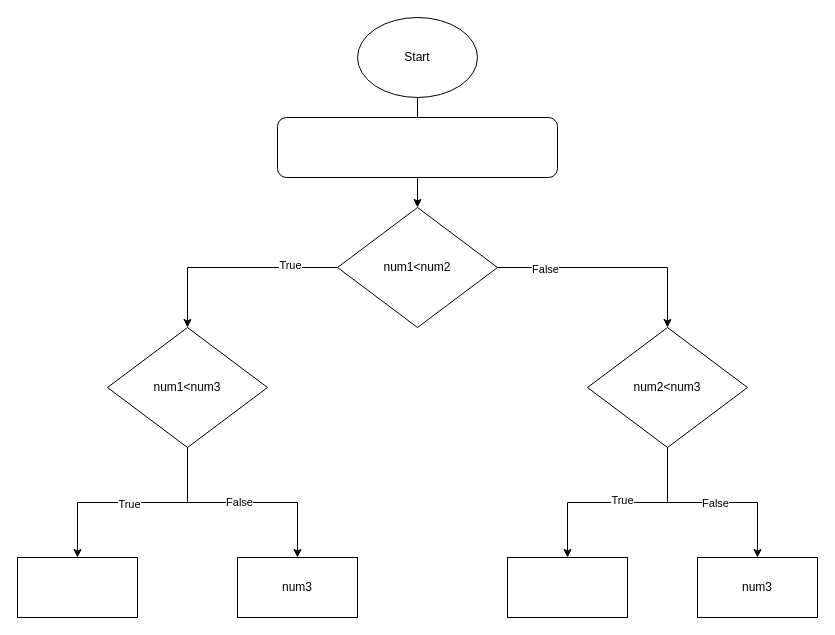
Image size: 835x635. Some labels were removed from this diagram. The centre of each missing label's shape, as x and y in pixels:
"Enter value for num1 Enter value for num2 Enter value for num3" goes at (x=417, y=147).
"num1" goes at (x=77, y=587).
"num2" goes at (x=567, y=587).
